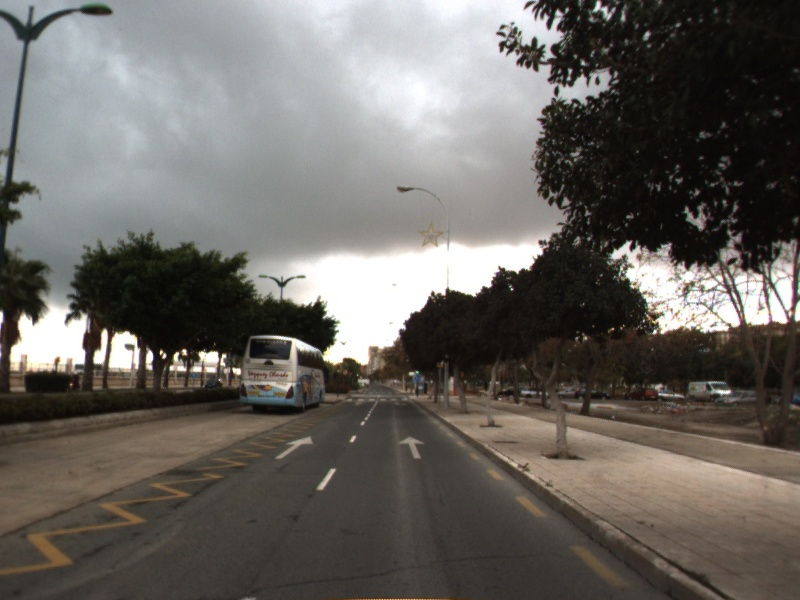STRAIGHT: (273, 434, 316, 461), (396, 434, 428, 460)
